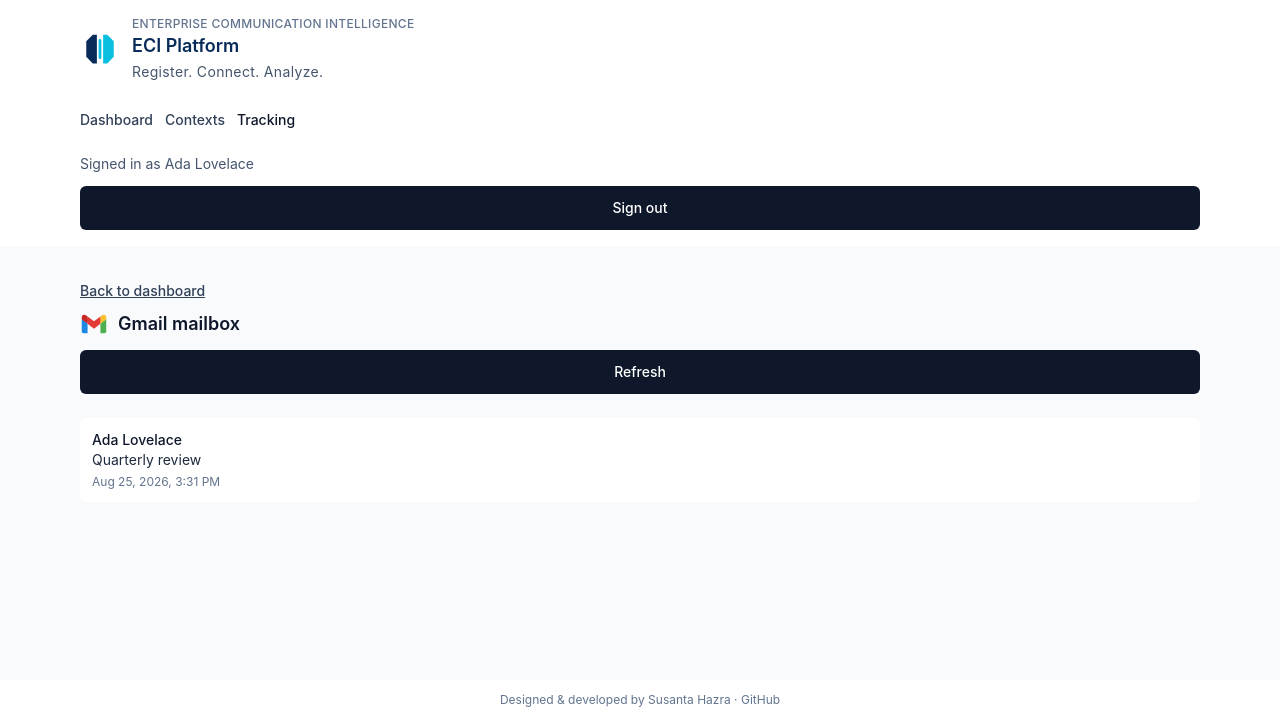
it: workflow permissions › allows analyze without workflow proposal
Click the button "Ada Lovelace Quarterly review Aug 25, 2026, 3:31 PM": (137, 440) [80,418,1200,502]
(page scrolled)
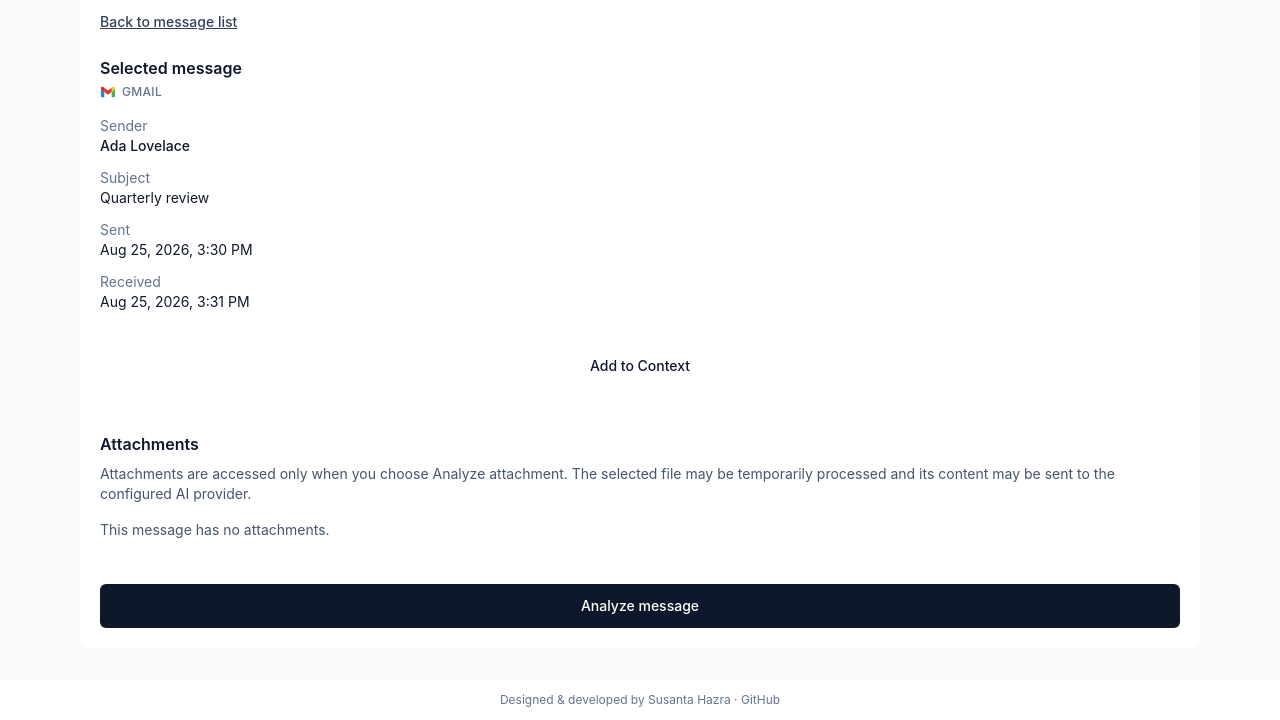
Click the button "Analyze message": (640, 606) [100,584,1180,628]
(page scrolled)
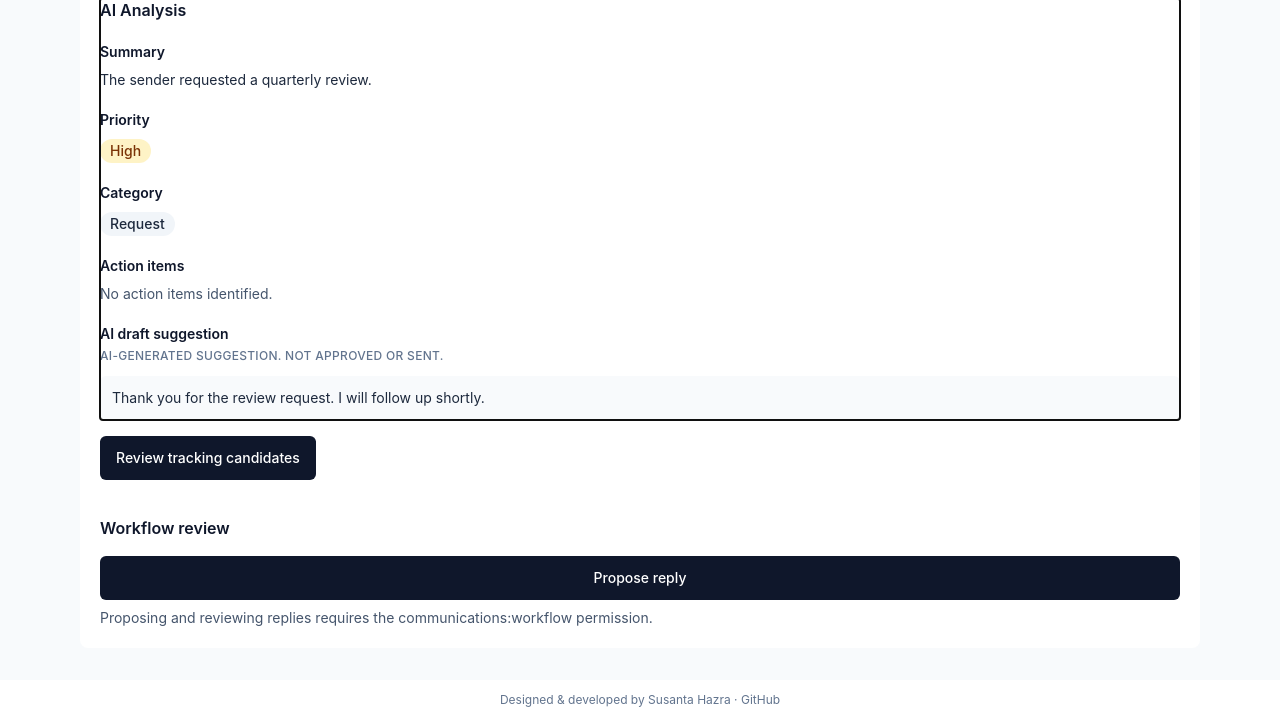
expect the heading "AI Analysis" is shown: met, box [100,0,186,20]
expect the button "Propose reply" is disabled: met, box [100,556,1180,600]
